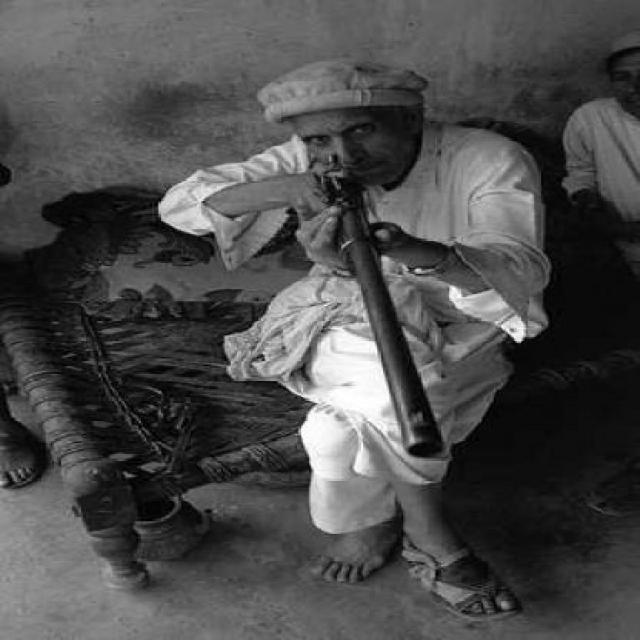weapon: (308, 150, 446, 464)
